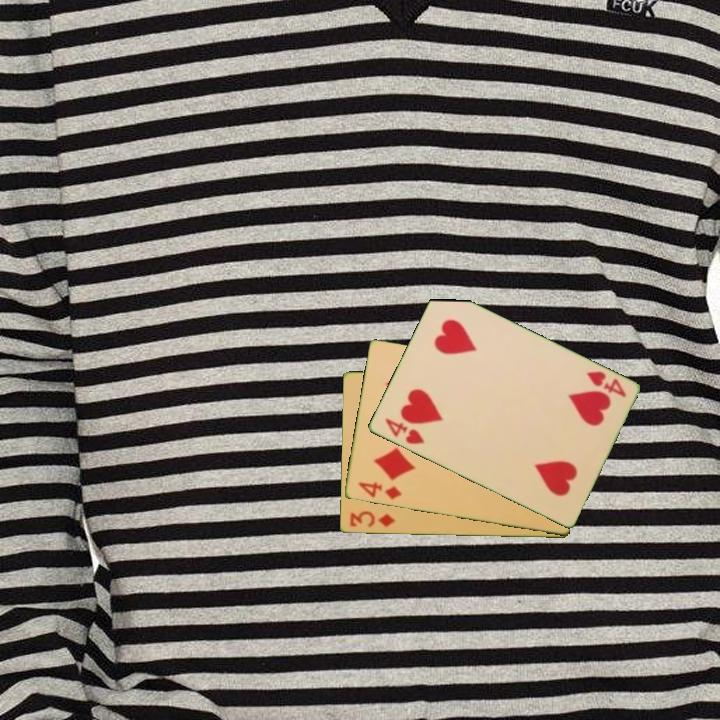3d: (346, 508, 398, 530)
4d: (354, 479, 404, 502)
4h: (381, 415, 427, 447), (583, 368, 629, 400)
